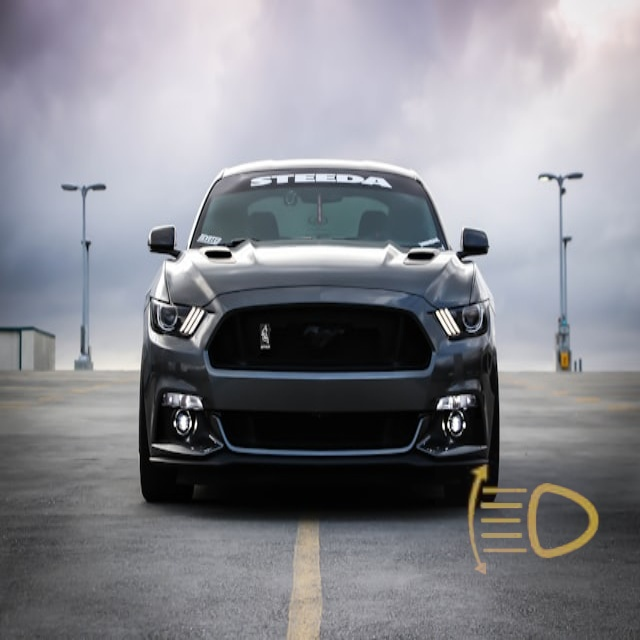symbol: (435, 419, 634, 618)
